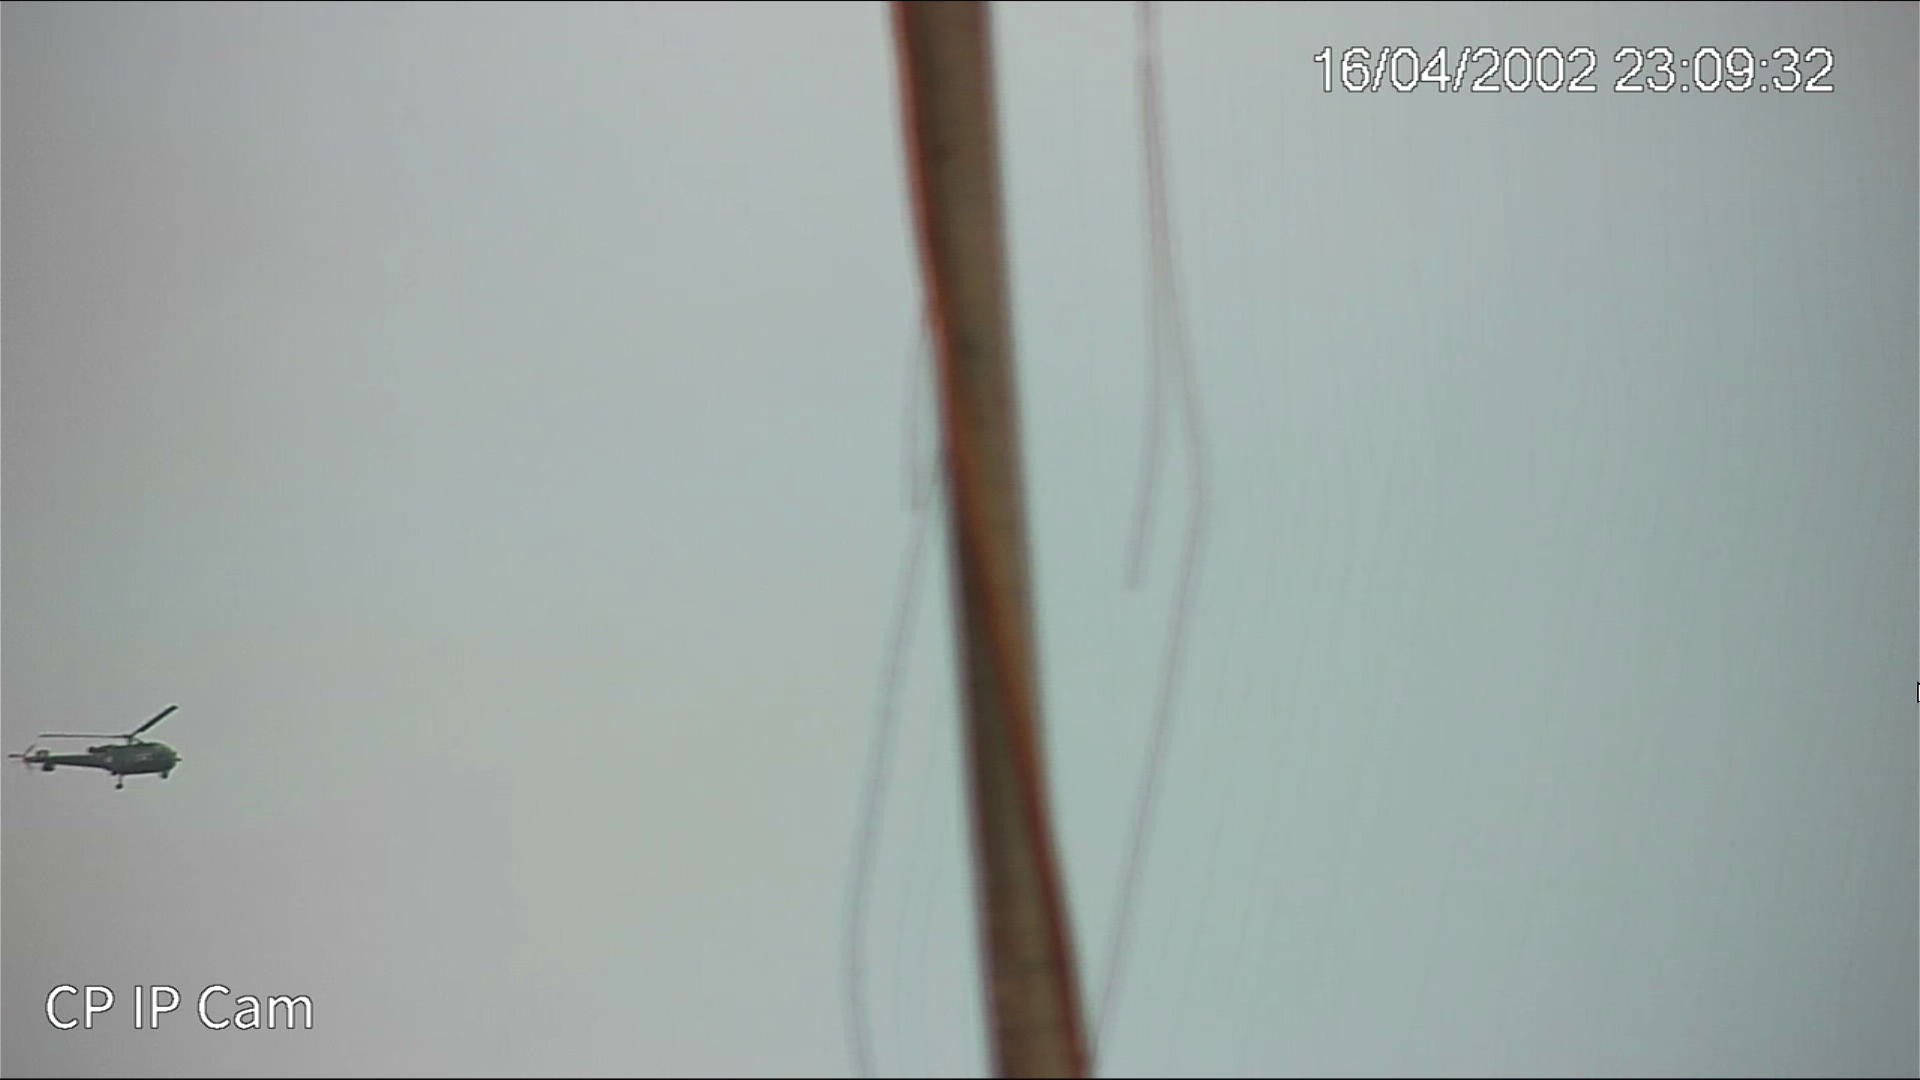SU_30: (11, 717, 185, 793)
